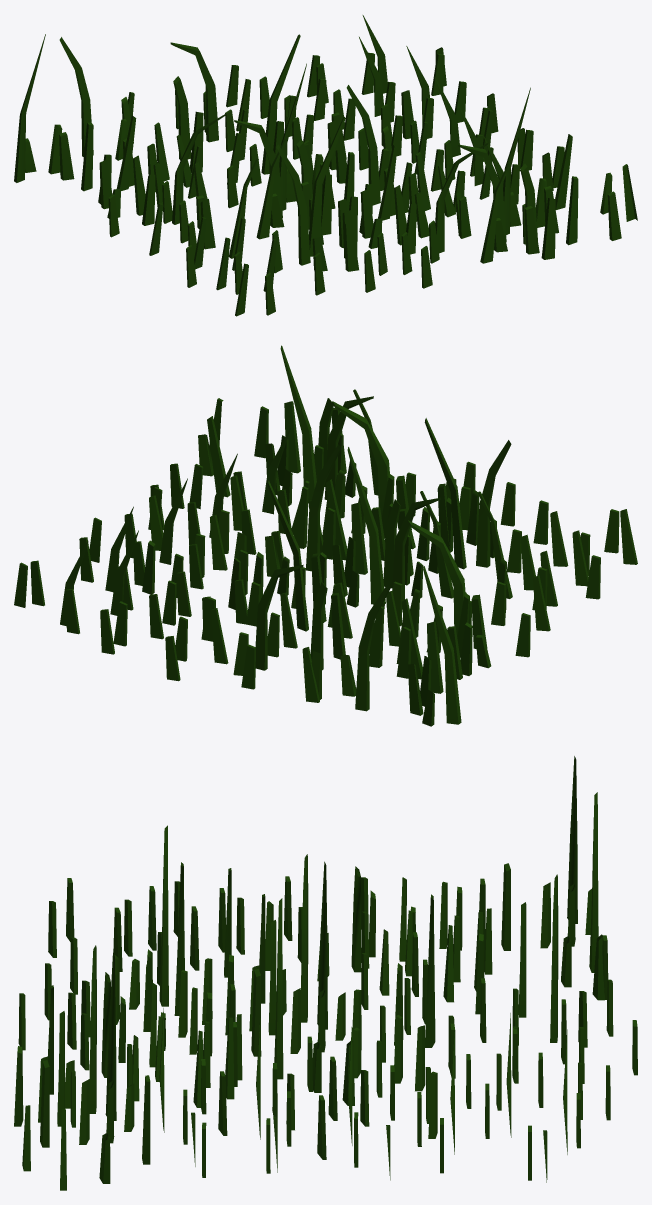
File: tallgrass_wildlowpoly.fbx
3 renders of one model, top to bottom at view 1: azimuth 30°, elevation 25°; view 2: azimuth 150°, elevation 25°; view 3: azimuth 270°, elevation 25°, orthographic. The views are drawn at different scales.
Parts seen in each view (by area): view 1: tall_grass; view 2: tall_grass; view 3: tall_grass.
Part boxes in pixels (x1,y1,x2,y2): tall_grass: (14,15,637,316); tall_grass: (14,345,637,726); tall_grass: (14,756,637,1190).
Size of the model in its own units: 0.8082 by 0.2529 by 0.7816.
